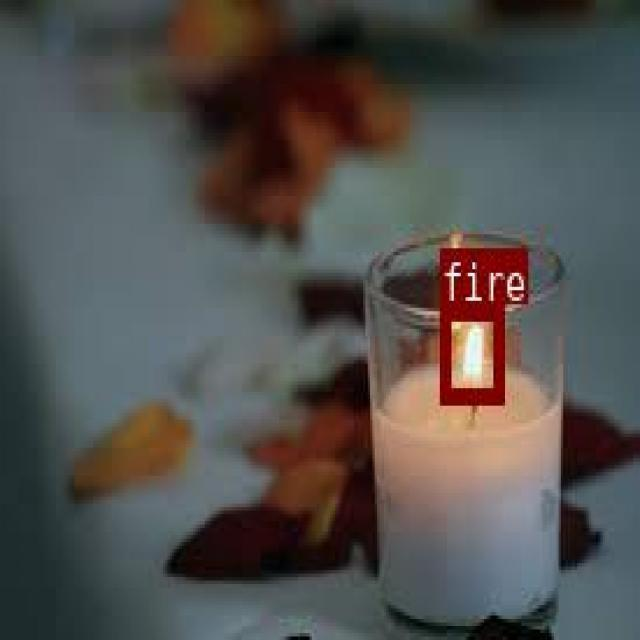fire: (438, 301, 501, 402)
